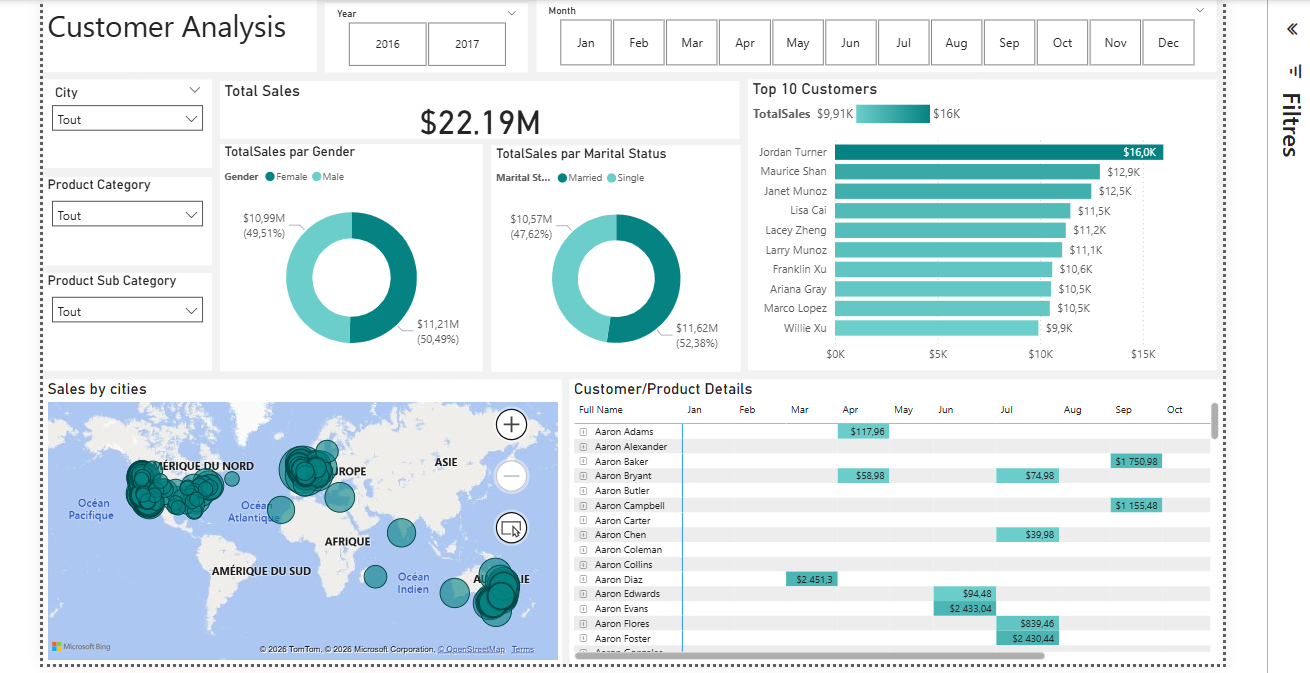

The dashboard page shown, as its layout file describes it:
{"tool":"powerbi","page":{"name":"Customer Analysis","canvas":[1280,720],"ordinal":1},"visuals":[{"type":"textbox","box":[0,0,296.4,78.2],"z":0},{"type":"slicer","fields":{"Values":["Dim_Date.Year"]},"box":[305.4,2.7,220.3,75.2],"z":1000},{"type":"slicer","title":"Product Category","fields":{"Values":["Dim_Product.Category"]},"box":[0,191.6,183.6,95.8],"z":2000},{"type":"slicer","title":"Product Sub Category","fields":{"Values":["Dim_Product.Sub Category"]},"box":[0,296.4,183.6,105.7],"z":3000},{"type":"slicer","fields":{"Values":["Dim_Customer.City"]},"box":[0,86.9,183.6,95.8],"z":4000},{"type":"slicer","fields":{"Values":["Dim_Date.Month"]},"box":[534.6,0,737,77.9],"z":5000},{"type":"barChart","title":"Top 10 Customers","fields":{"Category":["Dim_Customer.Full Name"],"Y":["Fact_Internet_Sales.TotalSales"]},"box":[763.9,86.9,507.8,315.2],"z":6000},{"type":"map","title":"Sales by cities","fields":{"Category":["Dim_Customer.City"],"Size":["Fact_Internet_Sales.TotalSales"]},"box":[0,410.9,562.7,309.1],"z":7000},{"type":"donutChart","fields":{"Y":["Fact_Internet_Sales.TotalSales"],"Category":["Dim_Customer.Gender"]},"box":[192.7,156.4,284.5,246.4],"z":8000},{"type":"pivotTable","title":"Customer/Product Details","fields":{"Rows":["Dim_Customer.Full Name","Dim_Product.EnglishProductName"],"Columns":["Dim_Date.Month"],"Values":["Fact_Internet_Sales.TotalSales"]},"box":[570.9,410.9,709.1,309.1],"z":9000},{"type":"donutChart","fields":{"Y":["Fact_Internet_Sales.TotalSales"],"Category":["Dim_Customer.Marital Status"]},"box":[486.4,157.3,270,245.5],"z":10000},{"type":"card","title":"Total Sales","fields":{"Values":["Fact_Internet_Sales.TotalSales"]},"box":[192.7,87.3,563.6,62.7],"z":11000}]}

Visuals, with their boxes on the page's 1280x720 design canvas (x1, y1, x2, y2). These are canvas units, not pixel positions in the 1310x673 screenshot, which may show the page scaled, cropped or inside an application window:
textbox: (left=0, top=0, right=296, bottom=78)
slicer - Dim_Date.Year: (left=305, top=3, right=526, bottom=78)
"Product Category" slicer: (left=0, top=192, right=184, bottom=287)
"Product Sub Category" slicer: (left=0, top=296, right=184, bottom=402)
slicer - Dim_Customer.City: (left=0, top=87, right=184, bottom=183)
slicer - Dim_Date.Month: (left=535, top=0, right=1272, bottom=78)
"Top 10 Customers" barChart: (left=764, top=87, right=1272, bottom=402)
"Sales by cities" map: (left=0, top=411, right=563, bottom=720)
donutChart - Fact_Internet_Sales.TotalSales x Dim_Customer.Gender: (left=193, top=156, right=477, bottom=403)
"Customer/Product Details" pivotTable: (left=571, top=411, right=1280, bottom=720)
donutChart - Fact_Internet_Sales.TotalSales x Dim_Customer.Marital Status: (left=486, top=157, right=756, bottom=403)
"Total Sales" card: (left=193, top=87, right=756, bottom=150)
